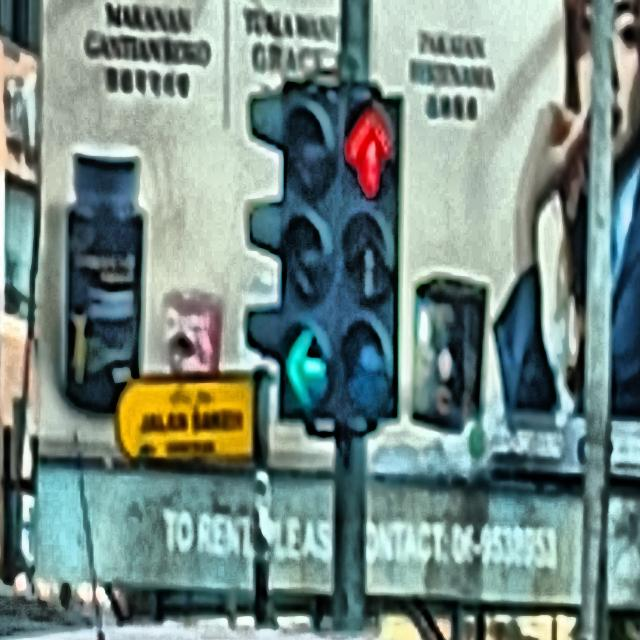green: (281, 82, 338, 416)
red: (344, 90, 399, 418)
